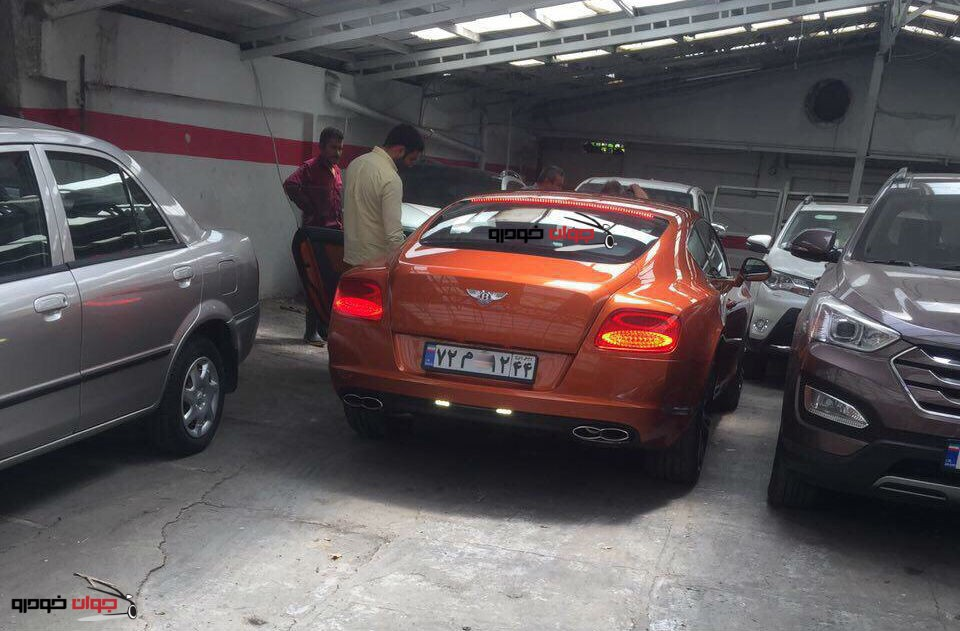car: (418, 338, 544, 387)
